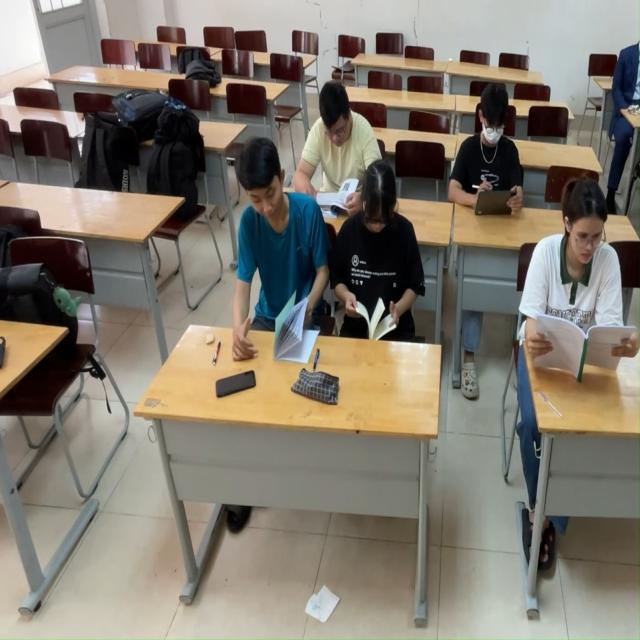read: (218, 126, 323, 366), (527, 184, 635, 399), (334, 164, 430, 357), (450, 72, 529, 229), (301, 69, 378, 201)
